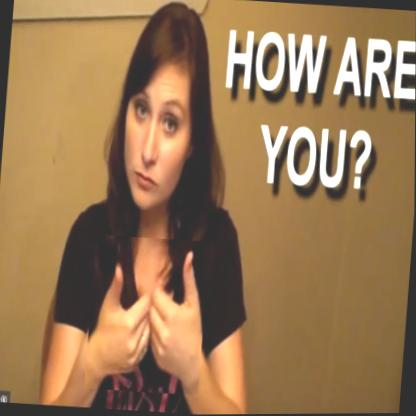HowAreYou: (85, 234, 211, 397)
